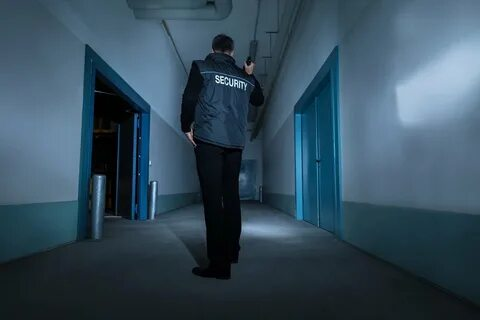awake: (179, 32, 266, 281)
